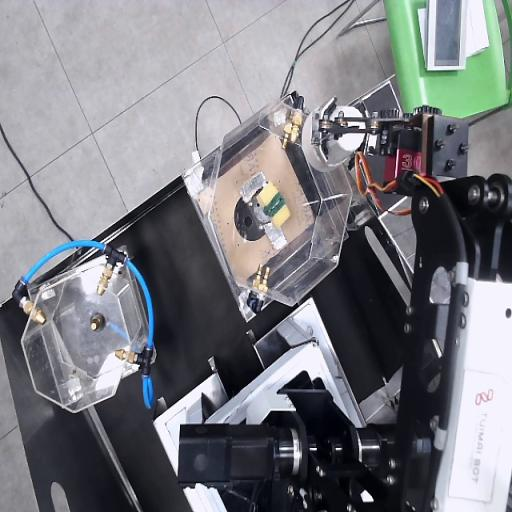cup in wash station: (302, 97, 365, 171)
